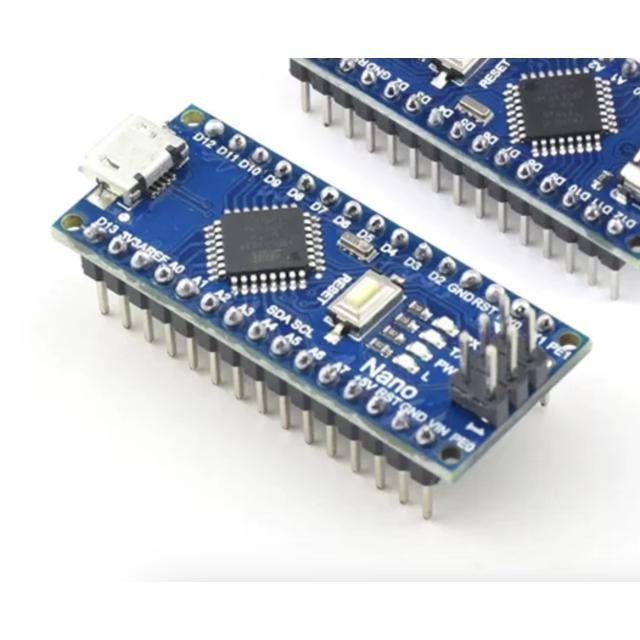Arduino-Nano: (55, 108, 590, 496), (309, 59, 640, 261)
